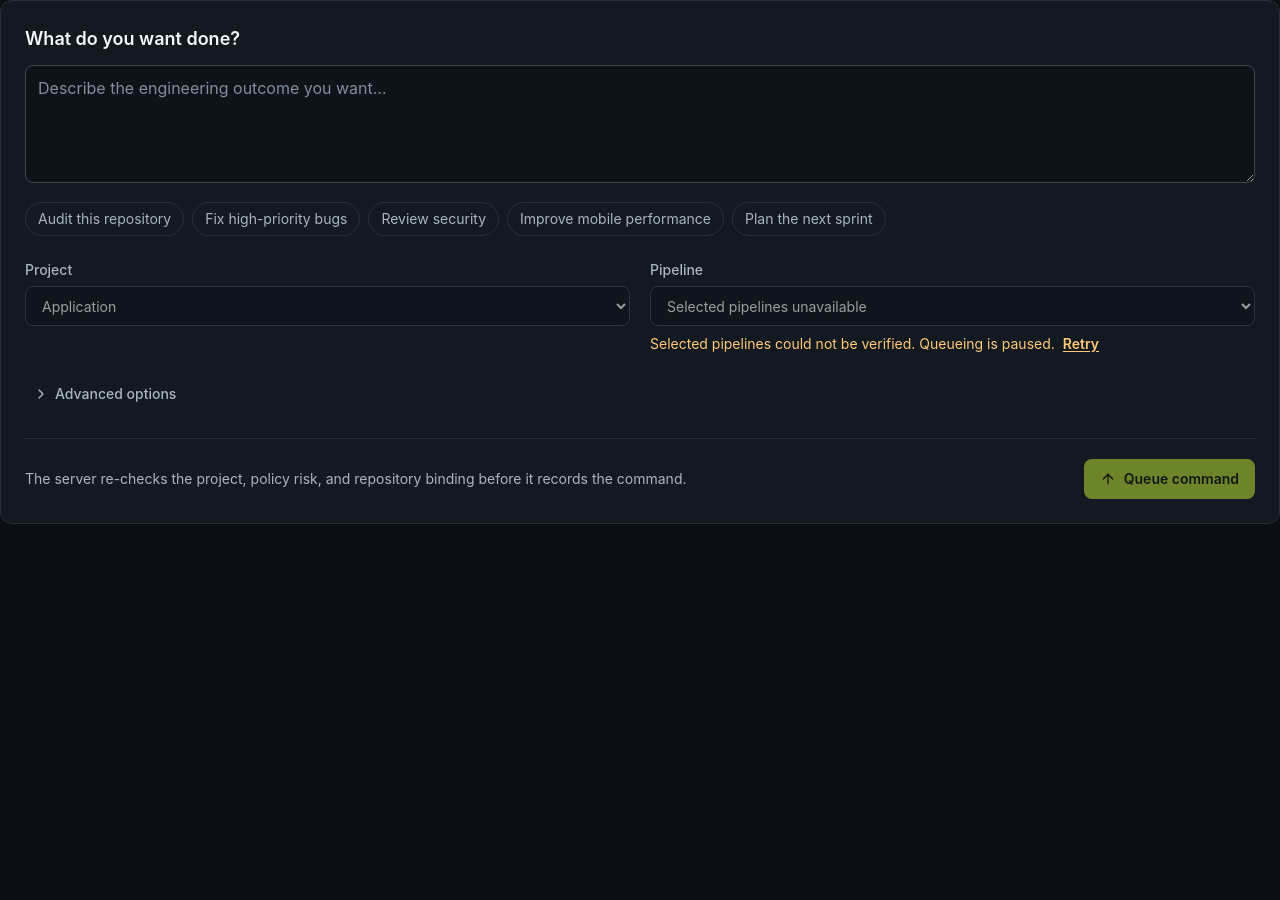
it: CommandComposer › fails closed when selected pipelines are unavailable and retries the read
Type "Route only after verification" into the text box labelled "What do you want done?" at (640, 124), box x1=25 y1=65 x2=1255 y2=183
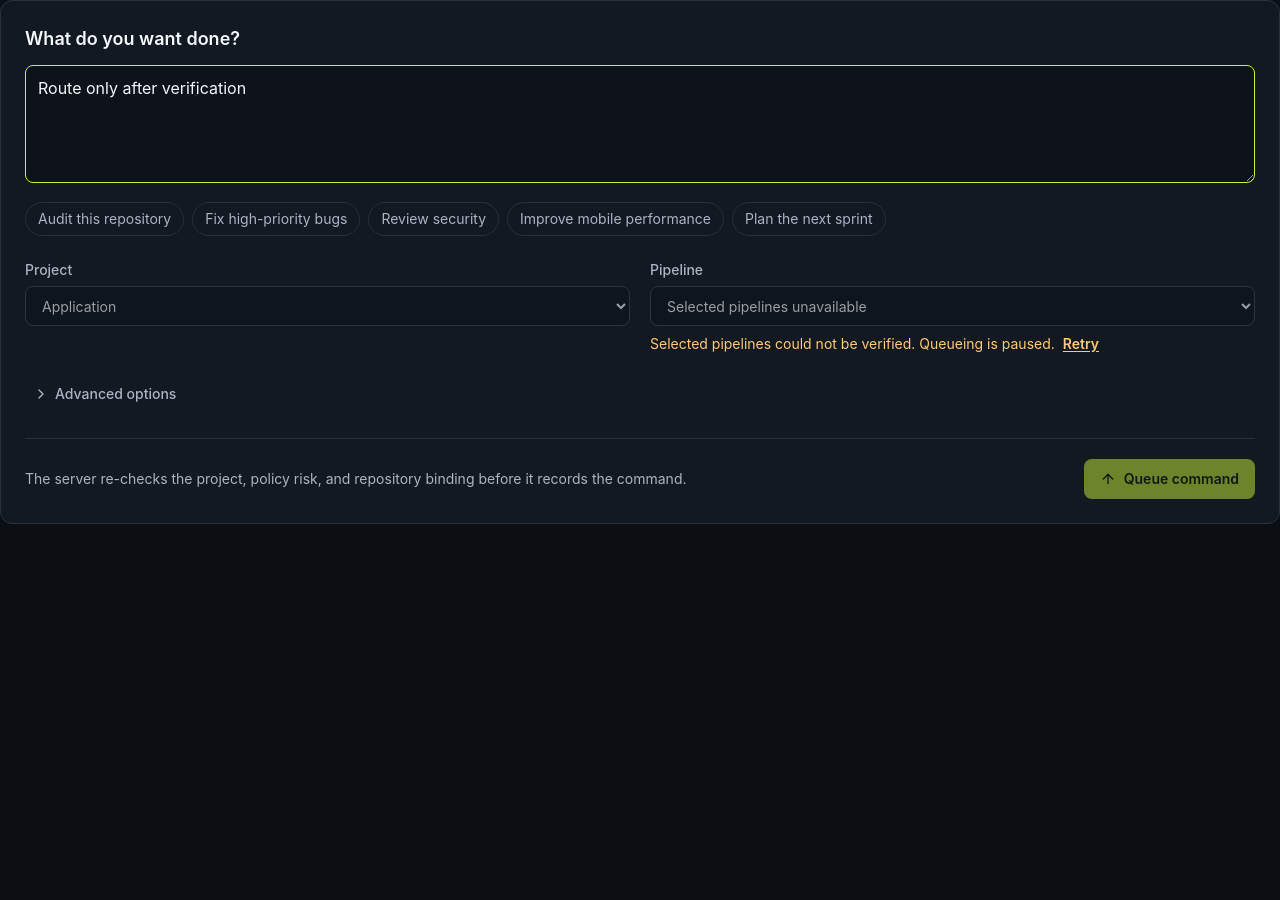
Expected: the text "Selected pipelines could not be verified" is shown, x1=650 y1=335 x2=1055 y2=352
Expected: the button "Queue command" is disabled, x1=1084 y1=459 x2=1255 y2=499
Click the button "Retry" at (1081, 344), box x1=1063 y1=334 x2=1099 y2=354
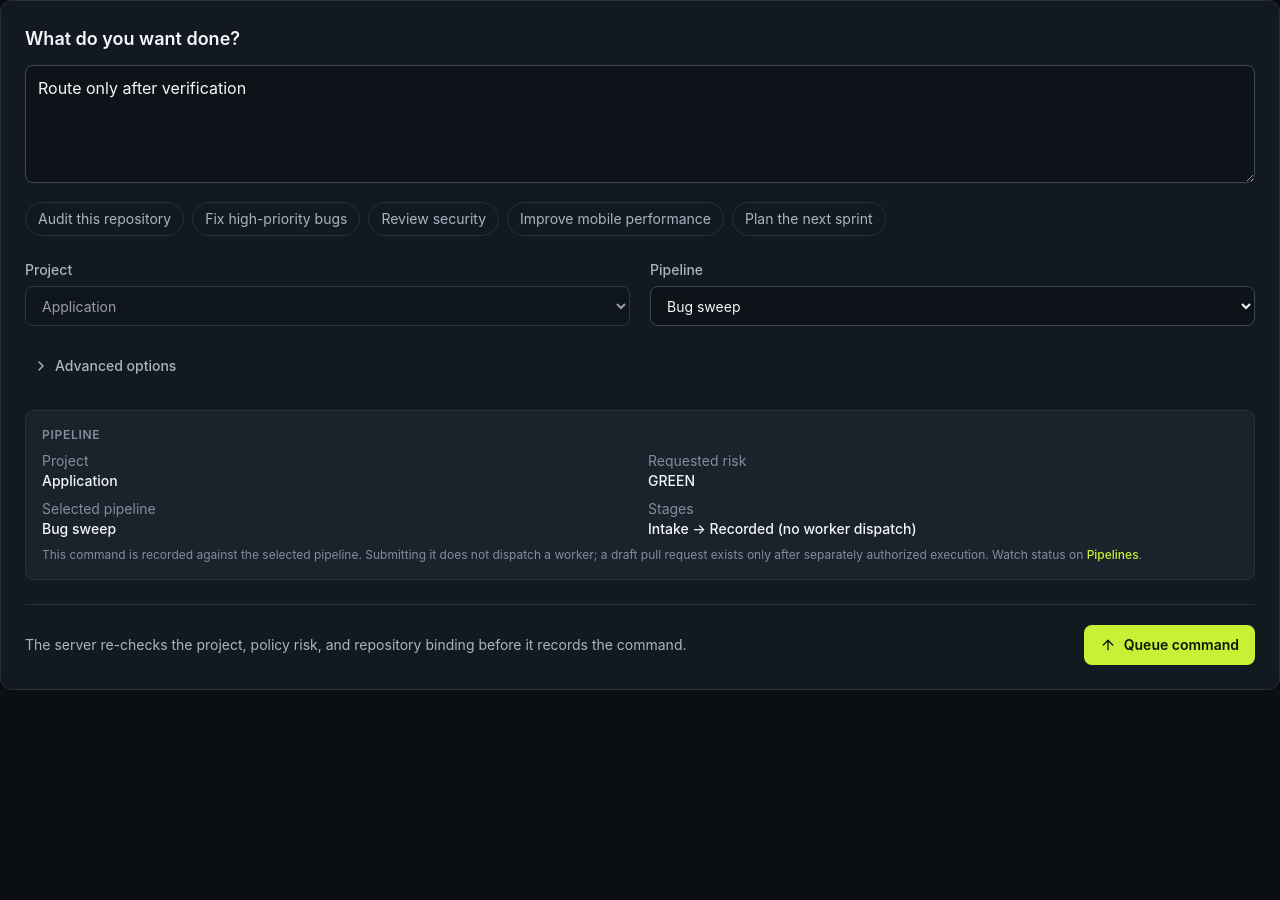
Expected: the dropdown labelled "Pipeline" shows "Bug sweep", x1=650 y1=286 x2=1255 y2=326
Expected: the button "Queue command" is enabled, x1=1084 y1=625 x2=1255 y2=665
